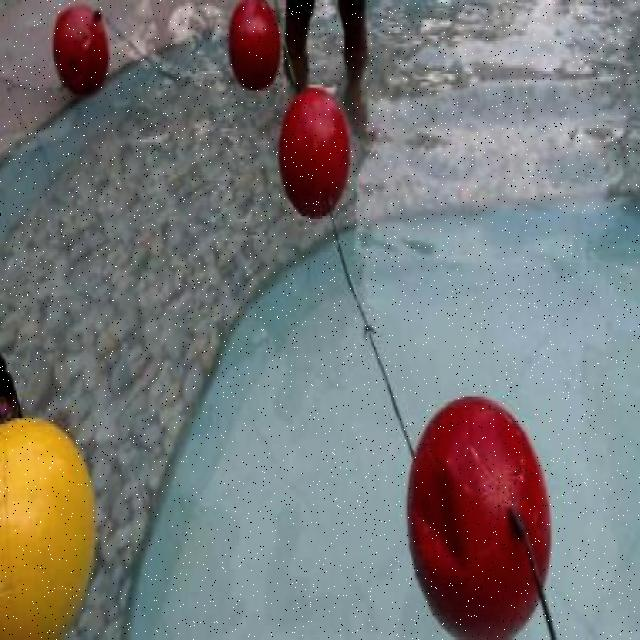buoy: (405, 392, 552, 636), (0, 414, 94, 636), (277, 87, 350, 219), (51, 1, 108, 97), (226, 0, 282, 90)
